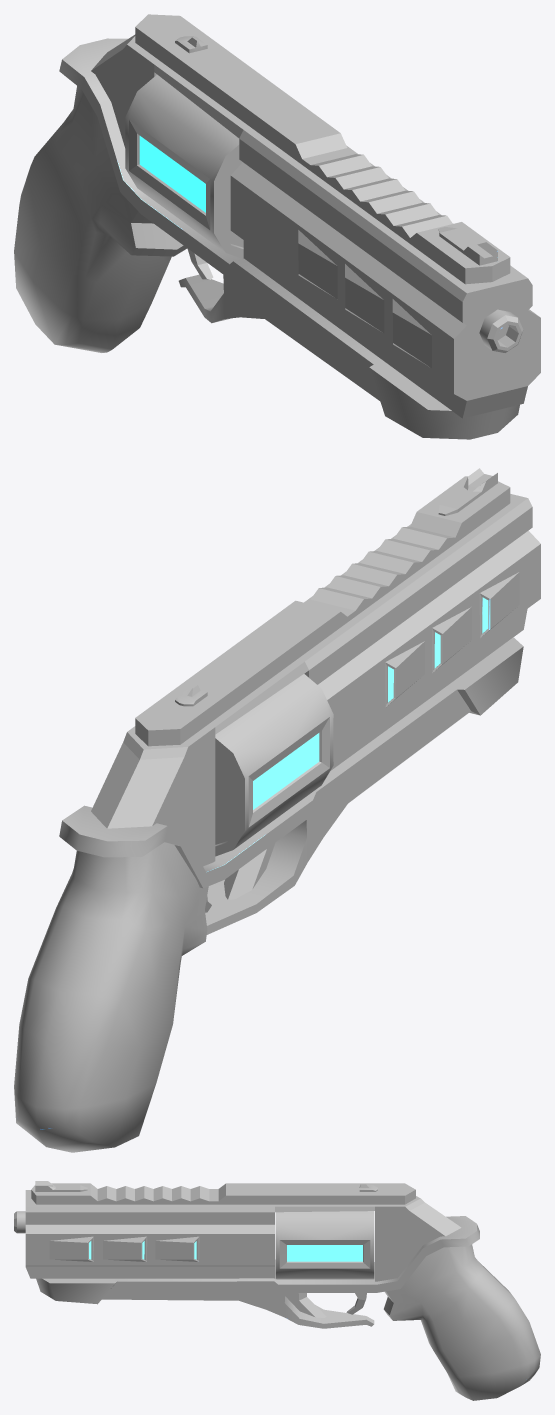
Rendered from pistol_fbx_poly.fbx.
The picture shows the model from 3 angles, top to bottom: view 1: azimuth 30°, elevation 25°; view 2: azimuth 150°, elevation 25°; view 3: azimuth 270°, elevation 25°; orthographic projection. The views are drawn at different scales.
Parts seen in each view (by area): view 1: Plane007; view 2: Plane007; view 3: Plane007.
Part boxes in pixels (box(x1,y1,x2,y2)): Plane007: box(14, 14, 540, 439); Plane007: box(14, 468, 540, 1152); Plane007: box(14, 1181, 540, 1400).
Size of the model in its own units: 5.39 by 16.52 by 36.81.
